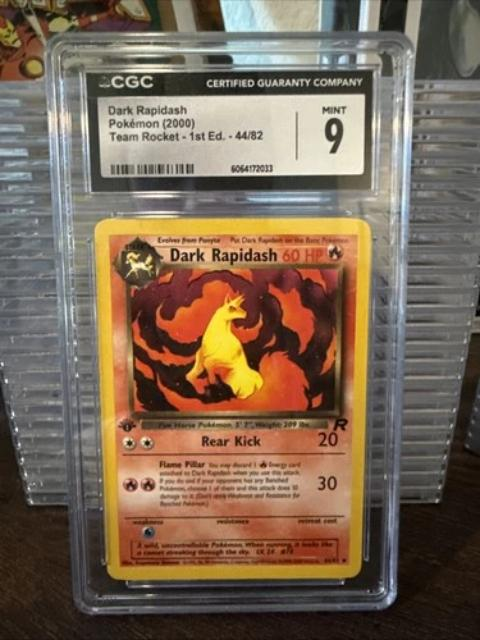Card: (89, 212, 376, 584)
Name: (163, 246, 284, 268)
